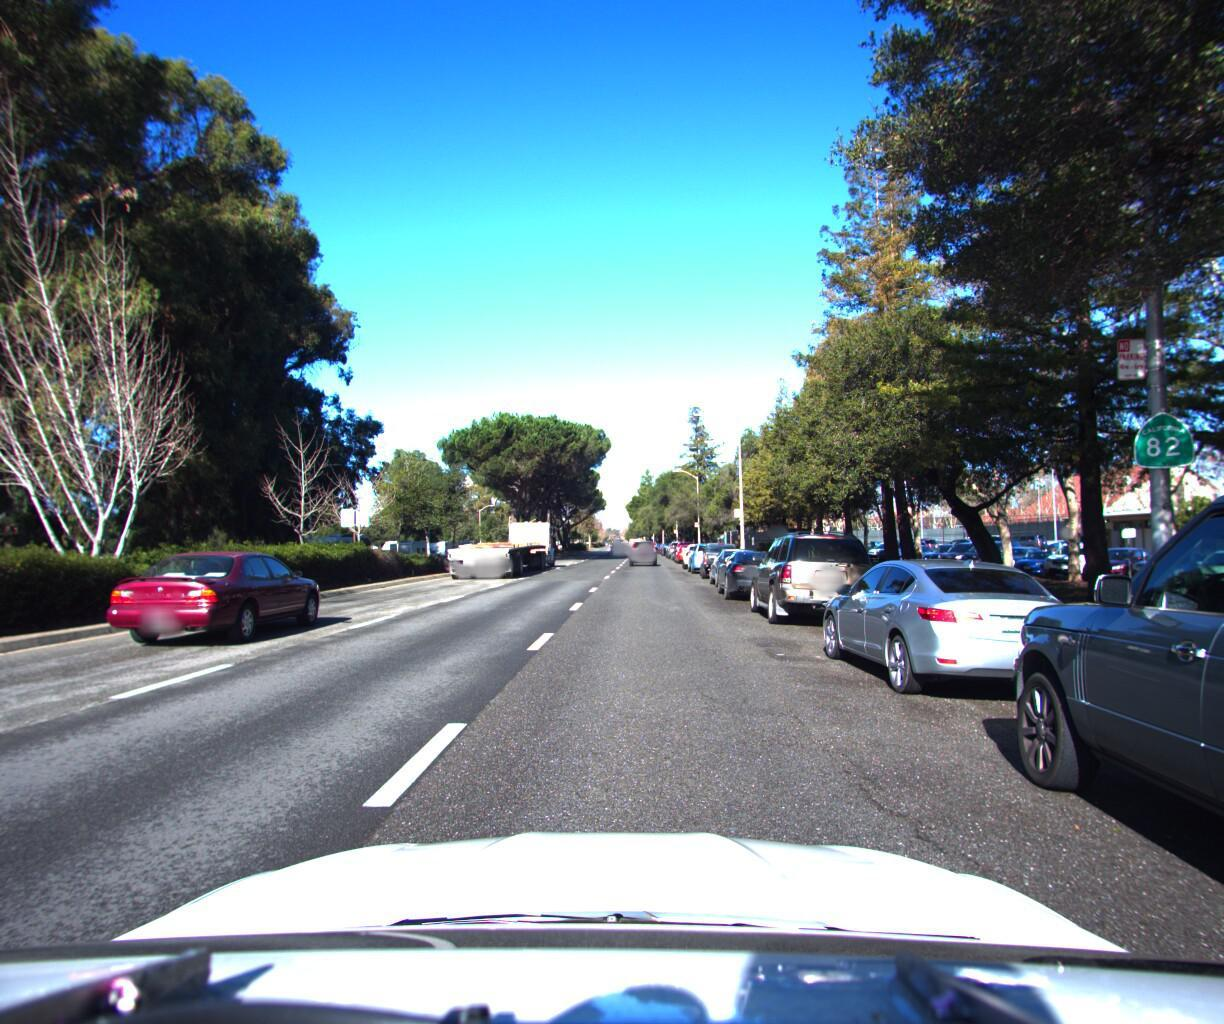car: (976, 349, 1224, 1024), (805, 545, 1113, 708), (107, 543, 331, 654), (743, 521, 888, 630), (715, 542, 801, 599), (706, 541, 768, 586), (698, 535, 745, 575), (685, 536, 728, 571), (681, 537, 717, 565), (627, 533, 659, 563), (673, 537, 702, 559)
other_vehicle: (301, 527, 373, 571)
truck: (442, 490, 564, 586)
